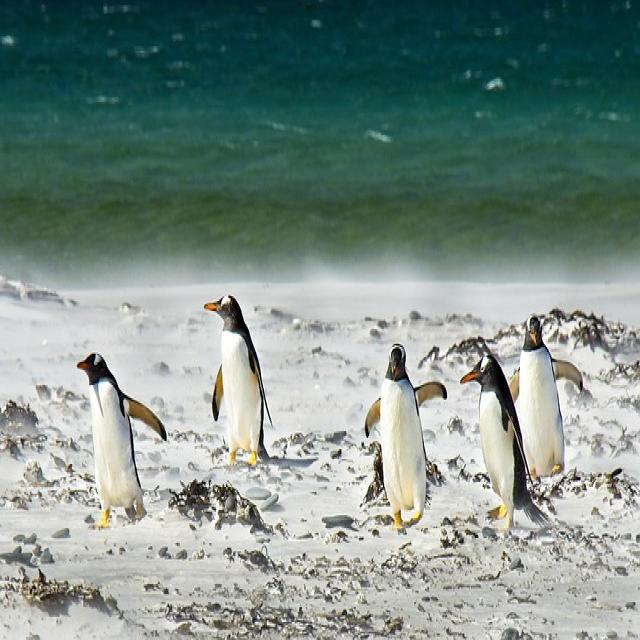Carnivorous: (365, 344, 448, 533), (78, 354, 165, 526), (463, 346, 525, 531), (510, 318, 566, 513), (203, 296, 266, 466)
